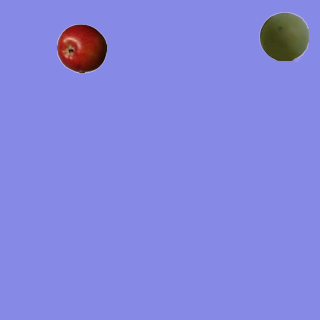Apple Braeburn: (56, 23, 106, 73)
Grape White 4: (258, 11, 308, 61)
